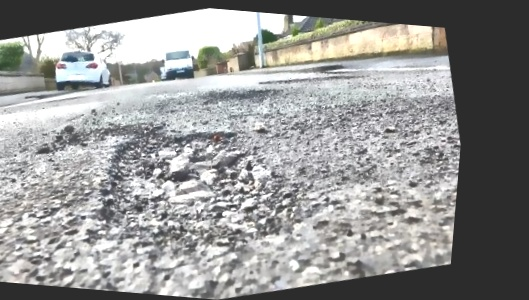pothole: (66, 88, 313, 280)
